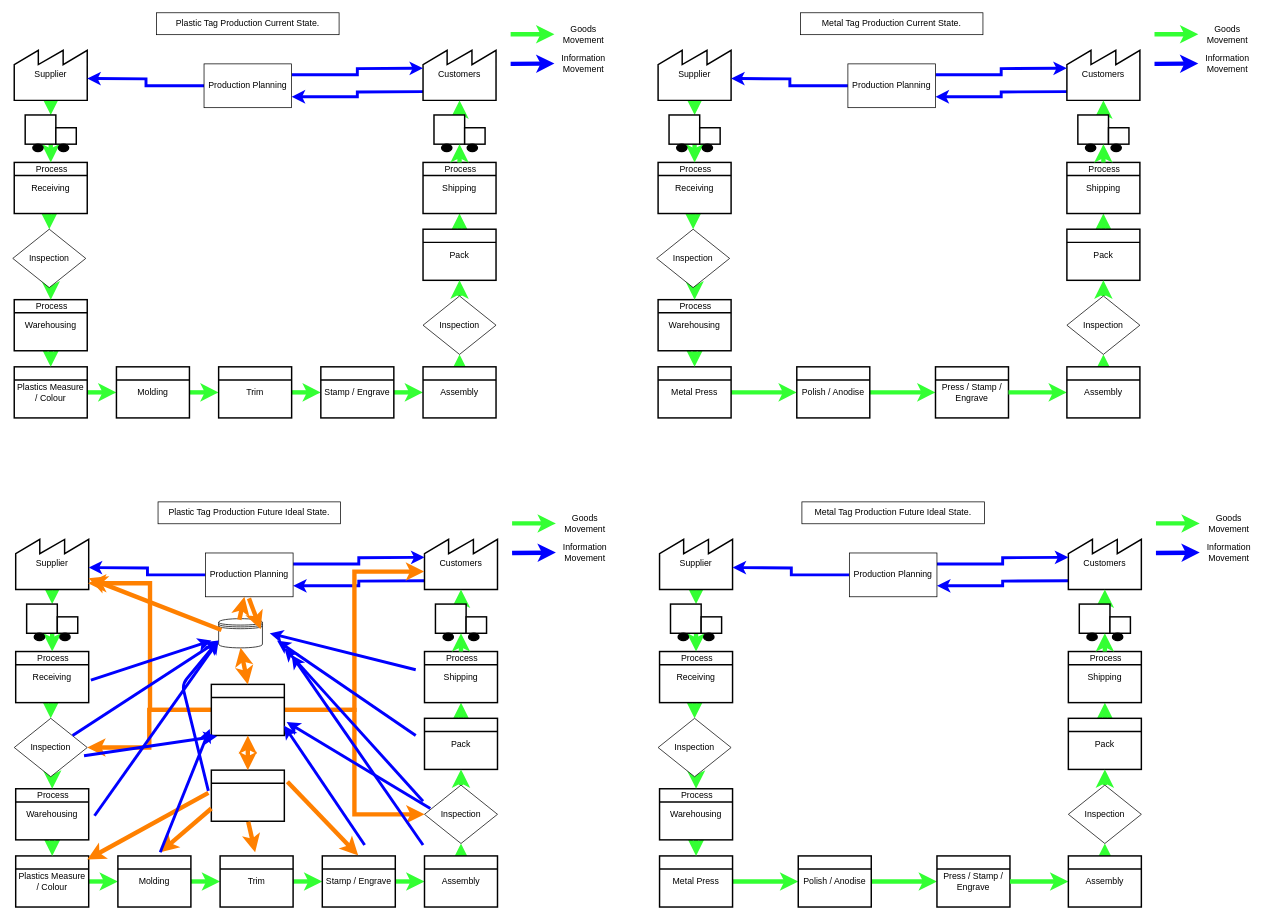
The diagram is 1271 pixels wide and 921 high, and some of its shapes have lost their labels. The centre of each missing label's shape, as x and y in pixels:
ERP: (240,633)
Parameters / Maintenence: (247,795)
Specifications / Quality Monitoring: (247,709)
